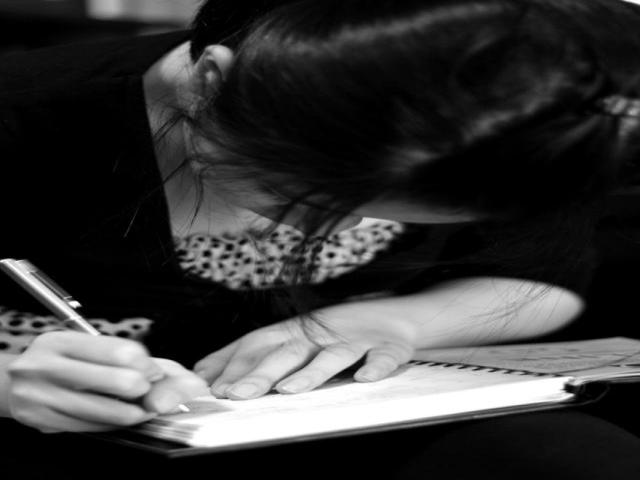PEN: (0, 246, 111, 351)
